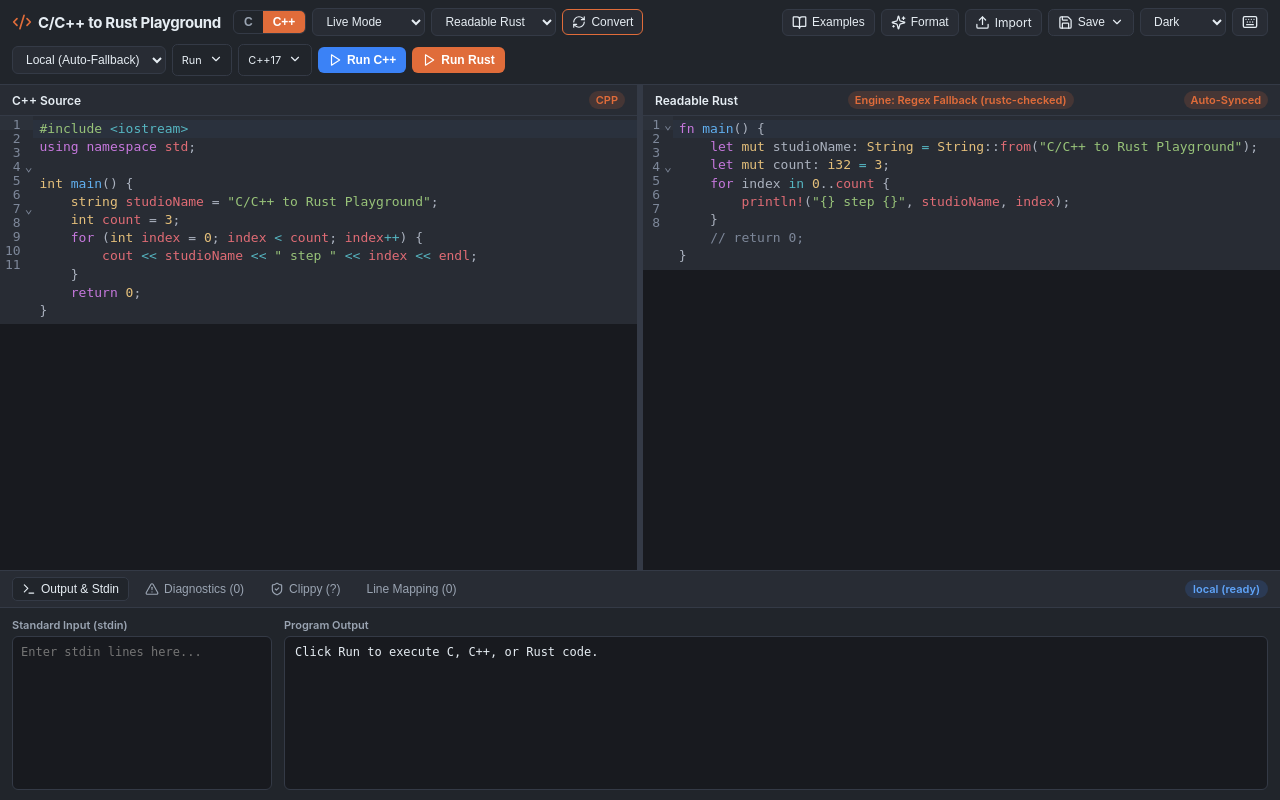
App component › switches cleanly between Readable Rust and Generated Rust modes
Step 1. Select "Generated Rust" in the dropdown with test id "output-style-select" → (494, 22), box [431,8,556,36]
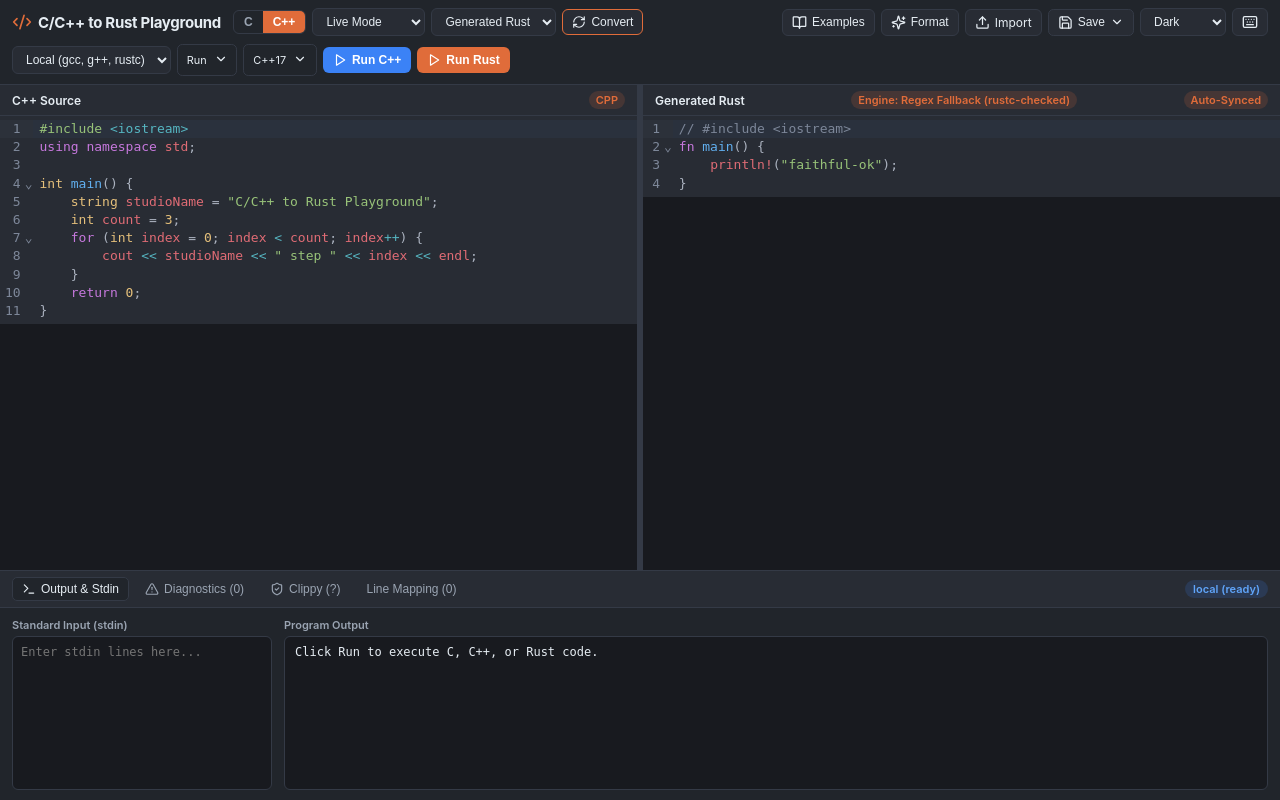
Check: the element with test id "rust-editor-pane" shows "faithful-ok", box [781,157,882,172]
Check: the element with test id "rust-editor-pane" shows "// #include <iostream>", box [679,121,851,136]
Step 2. Select "Readable Rust" in the dropdown with test id "output-style-select" → (494, 22), box [431,8,556,36]
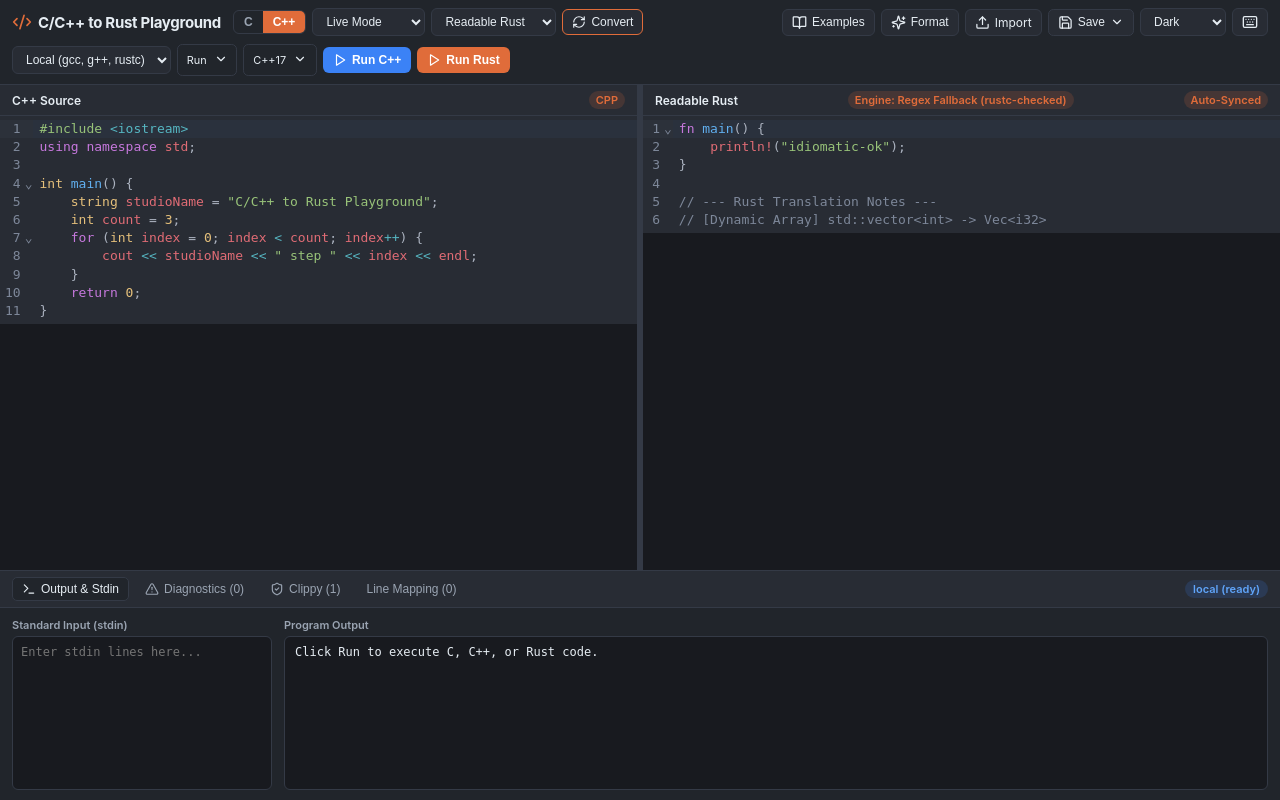
Check: the element with test id "rust-editor-pane" shows "idiomatic-ok", box [781,139,890,154]
Check: the element with test id "rust-editor-pane" no longer shows "// #include <iostream>", box [643,85,1279,233]
